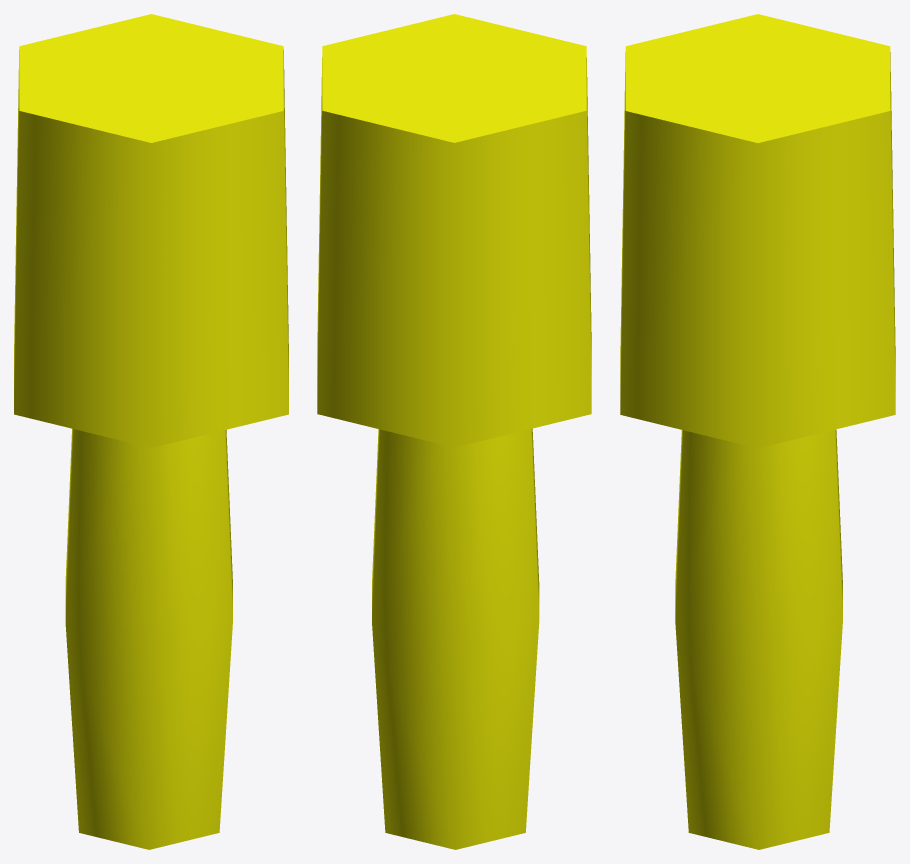
File: projectile_grenade_soviet.glb
3 views of the same model, side by side, from view 1: azimuth 30°, elevation 25°; view 2: azimuth 150°, elevation 25°; view 3: azimuth 270°, elevation 25° (orthographic).
Visible parts, largest first — view 1: projectile_grenade_soviet; view 2: projectile_grenade_soviet; view 3: projectile_grenade_soviet.
Part boxes in pixels (x1,y1,x2,y2): projectile_grenade_soviet: [14, 14, 288, 849]; projectile_grenade_soviet: [317, 14, 591, 849]; projectile_grenade_soviet: [620, 14, 895, 849].
Size of the model in its own units: 0.2134 by 0.547 by 0.1848.
1 material, 1 textured.
